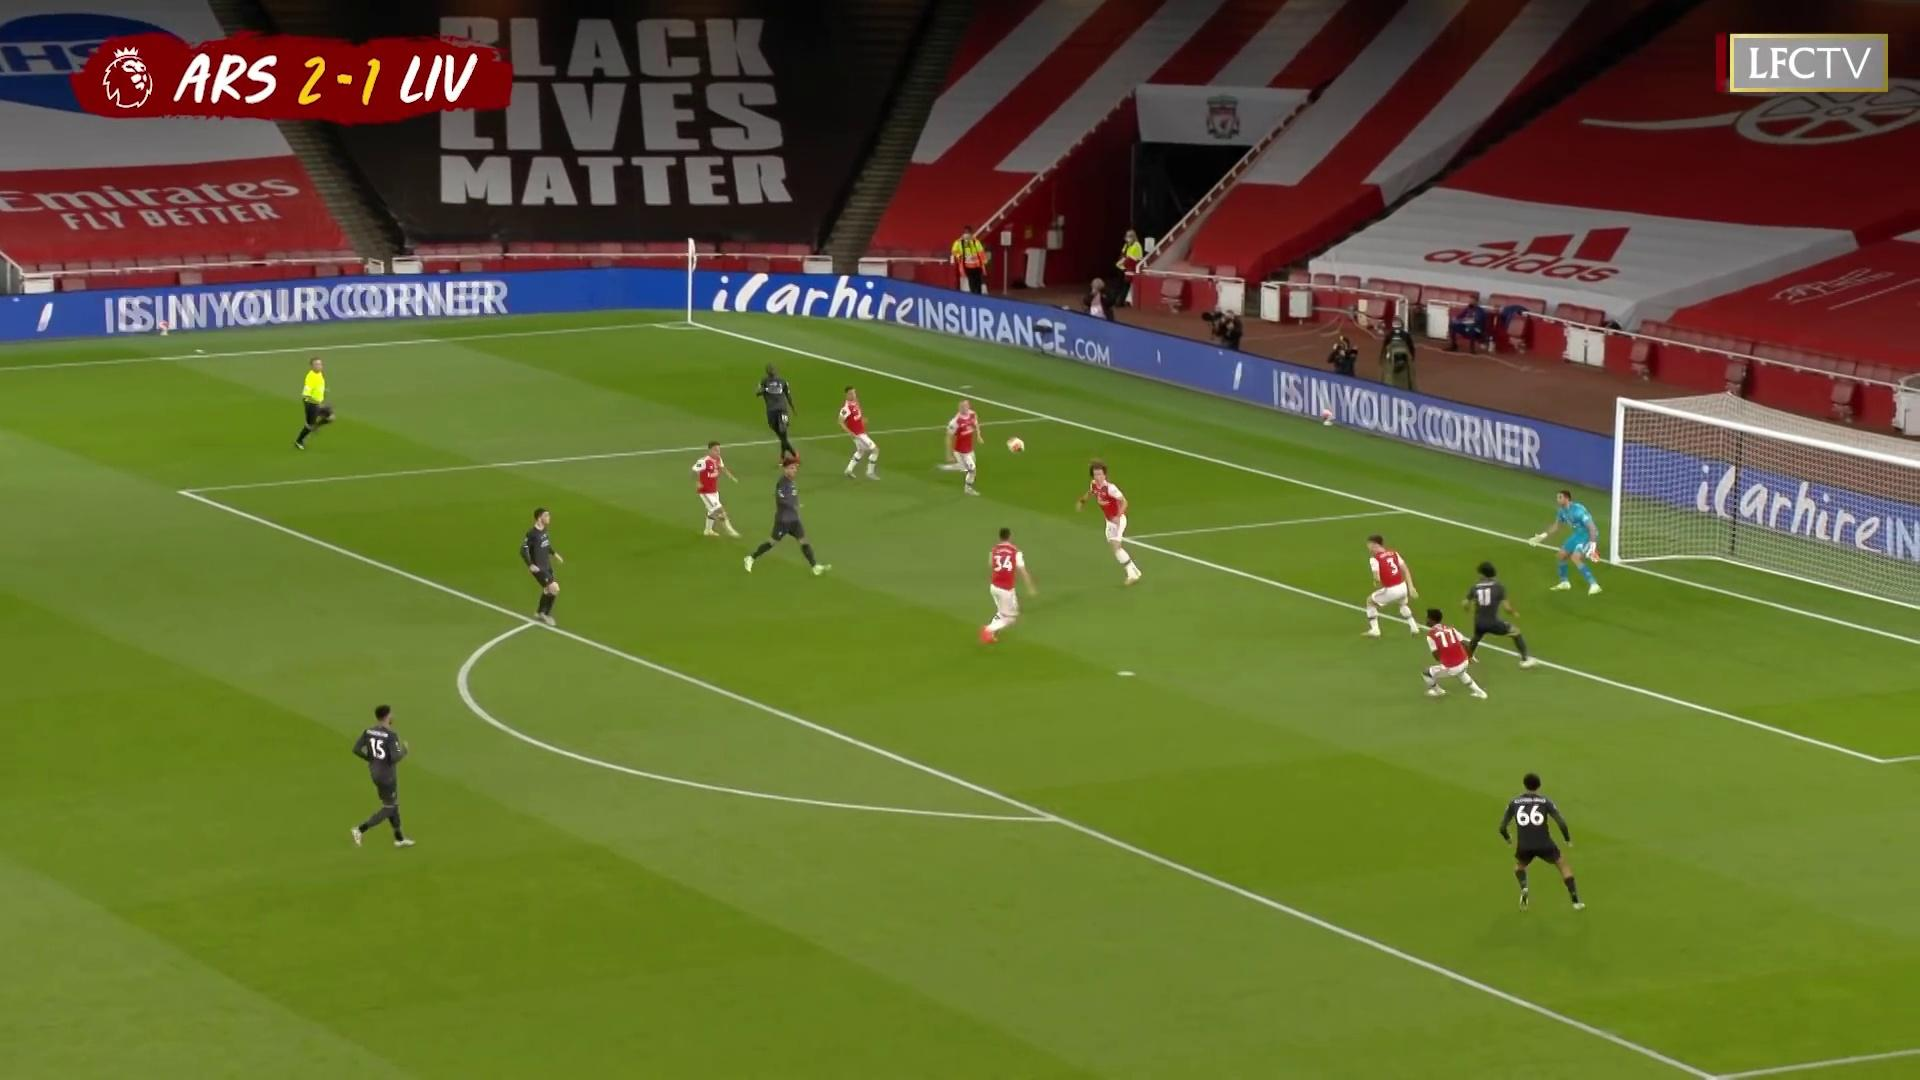ball: (1006, 435, 1028, 454), (154, 321, 171, 338)
